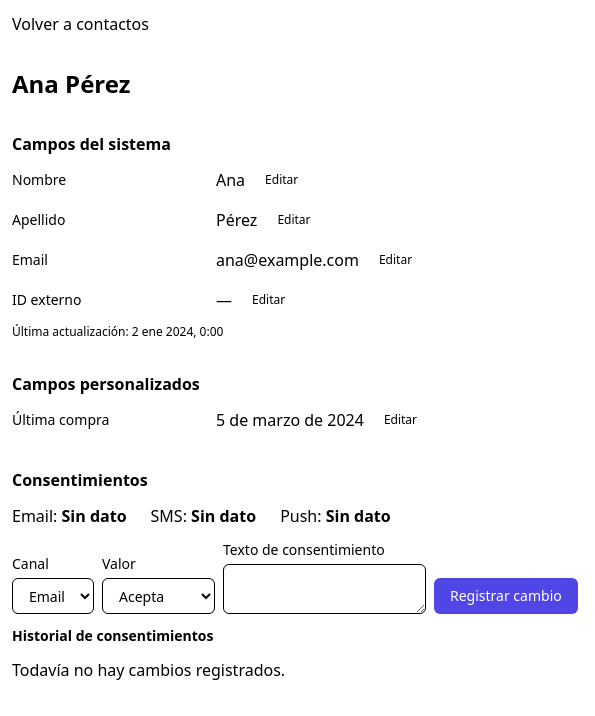
Scenario: contact detail › formats dates for the locale and edits a date field
Check: the text "5 de marzo de 2024" is shown, box [216,408,364,432]
Step 1. Click the button with aria-label "Editar Última compra" → coordinates (400, 420), box [372,404,429,436]
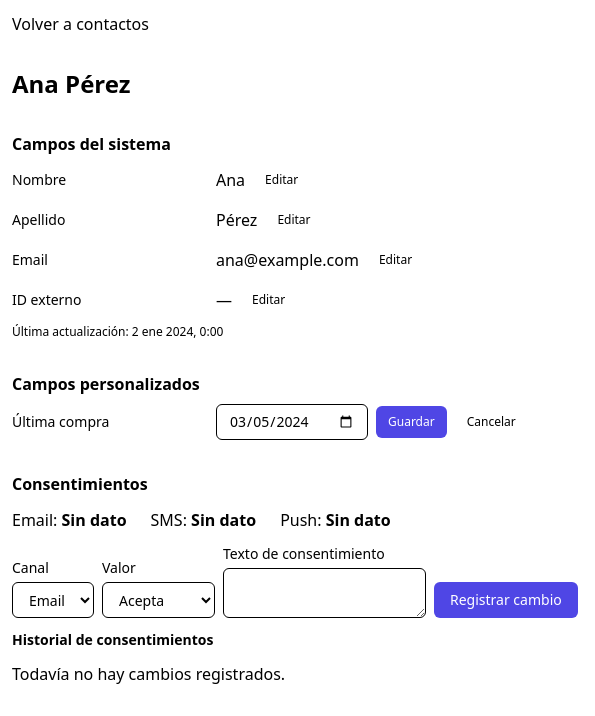
Step 2. Type "2024-06-10" into the date field labelled "Última compra" → coordinates (292, 422), box [216,404,368,440]
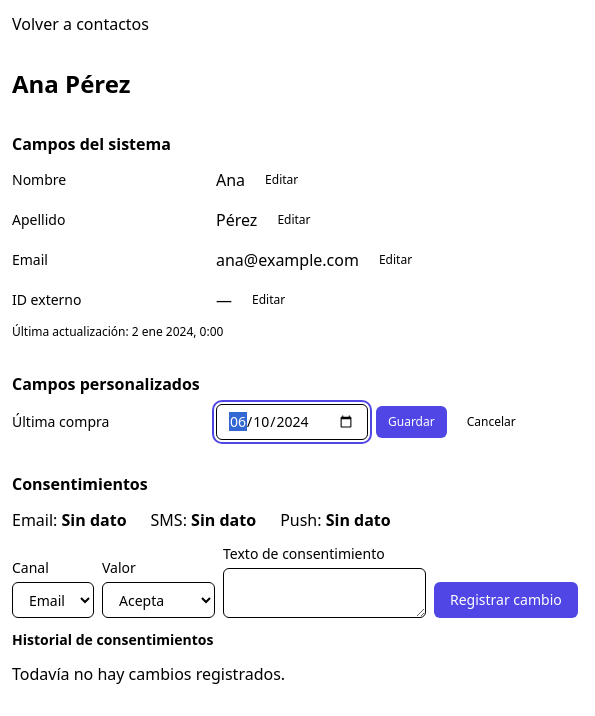
Step 3. Click the button "Guardar" → coordinates (411, 422), box [376,406,447,438]
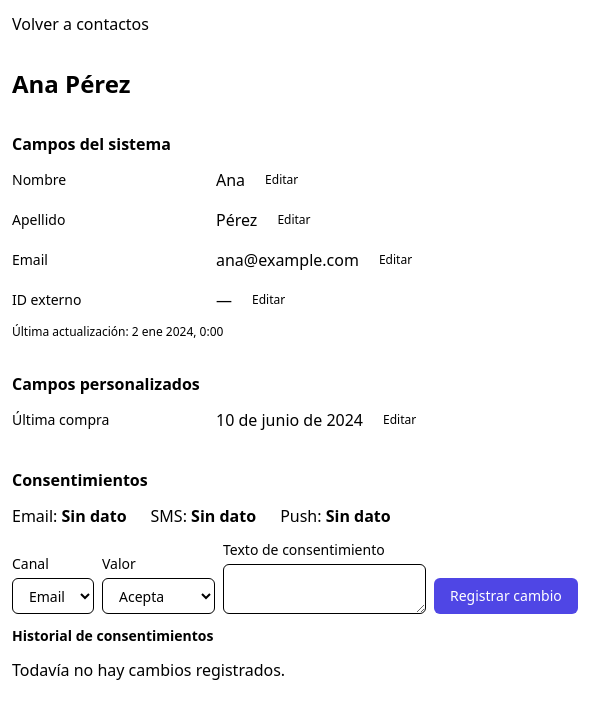
Check: the text "10 de junio de 2024" is shown, box [216,408,363,432]
